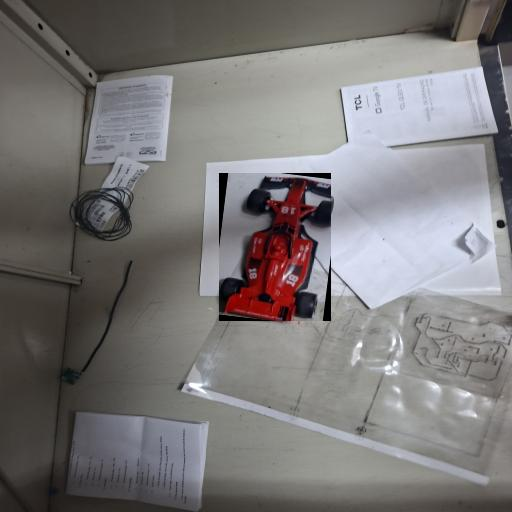carro: (219, 173, 331, 321)
